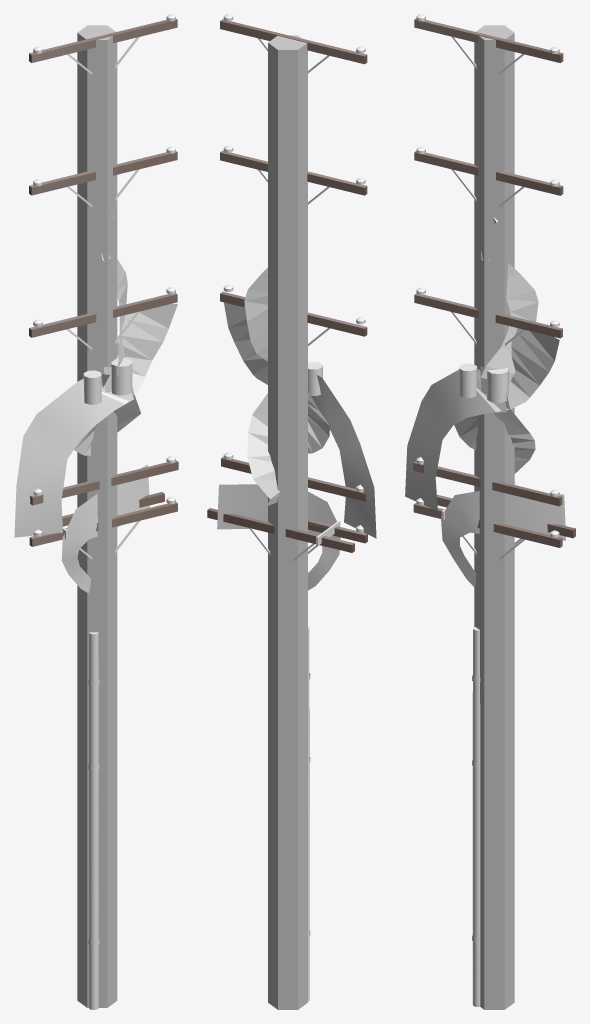
File: powerpole2.dae
3 views of the same model, side by side, from view 1: azimuth 30°, elevation 25°; view 2: azimuth 150°, elevation 25°; view 3: azimuth 330°, elevation 25° (orthographic).
Parts seen in each view (by area): view 1: Colmesh-1, powerpole2_a400, powerpole2_a200; view 2: Colmesh-1, powerpole2_a400, powerpole2_a200; view 3: Colmesh-1, powerpole2_a400, powerpole2_a200.
Boxes of the visible parts, x1,y1,x2,y2 form: Colmesh-1: (77, 25, 117, 1007); powerpole2_a400: (14, 14, 178, 1009); powerpole2_a200: (29, 538, 98, 1009); Colmesh-1: (268, 35, 307, 1009); powerpole2_a400: (207, 14, 376, 1001); powerpole2_a200: (308, 522, 355, 1000); Colmesh-1: (474, 25, 514, 1009); powerpole2_a400: (405, 14, 575, 1006); powerpole2_a200: (472, 630, 480, 1006).
Size of the model in its own units: 3.44 by 1.22 by 20.16.
